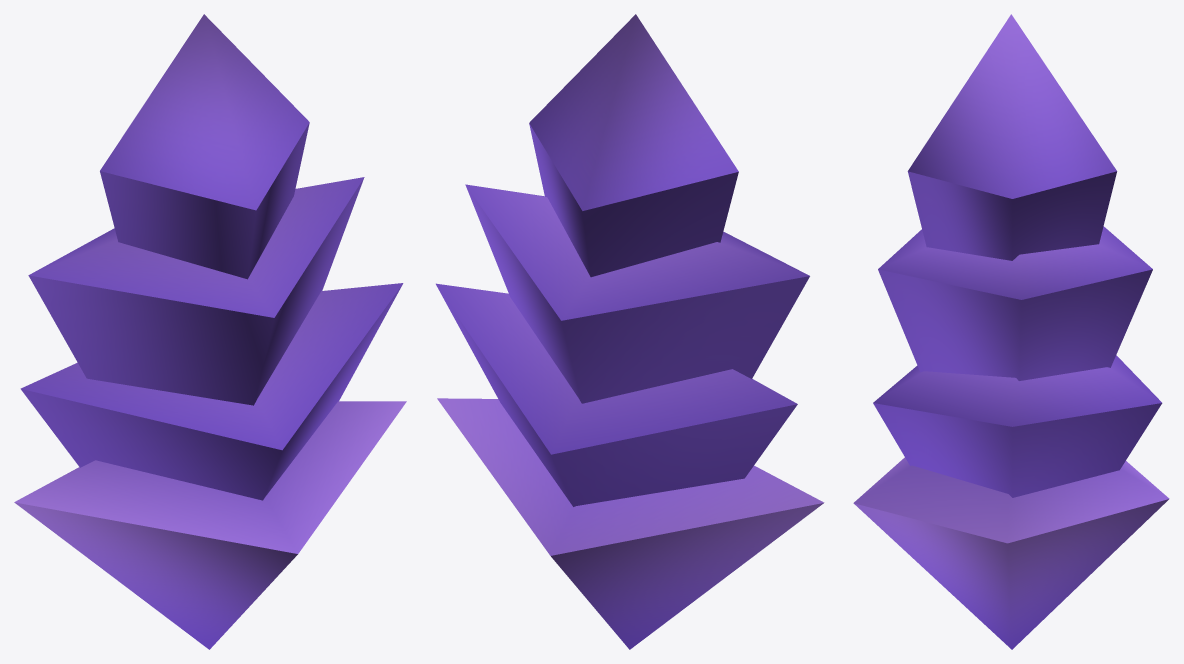
File: Lavender.glb
The picture shows the model from 3 angles, left to right: view 1: azimuth 30°, elevation 25°; view 2: azimuth 150°, elevation 25°; view 3: azimuth 270°, elevation 25°; orthographic projection.
Parts seen in each view (by area): view 1: Lavender; view 2: Lavender; view 3: Lavender.
Part boxes in pixels (x1,y1,x2,y2): Lavender: (14, 14, 406, 649); Lavender: (436, 14, 824, 649); Lavender: (853, 14, 1169, 649).
Size of the model in its own units: 0.4335 by 0.6764 by 0.3063.
Materials: 1 (1 with a texture image).
